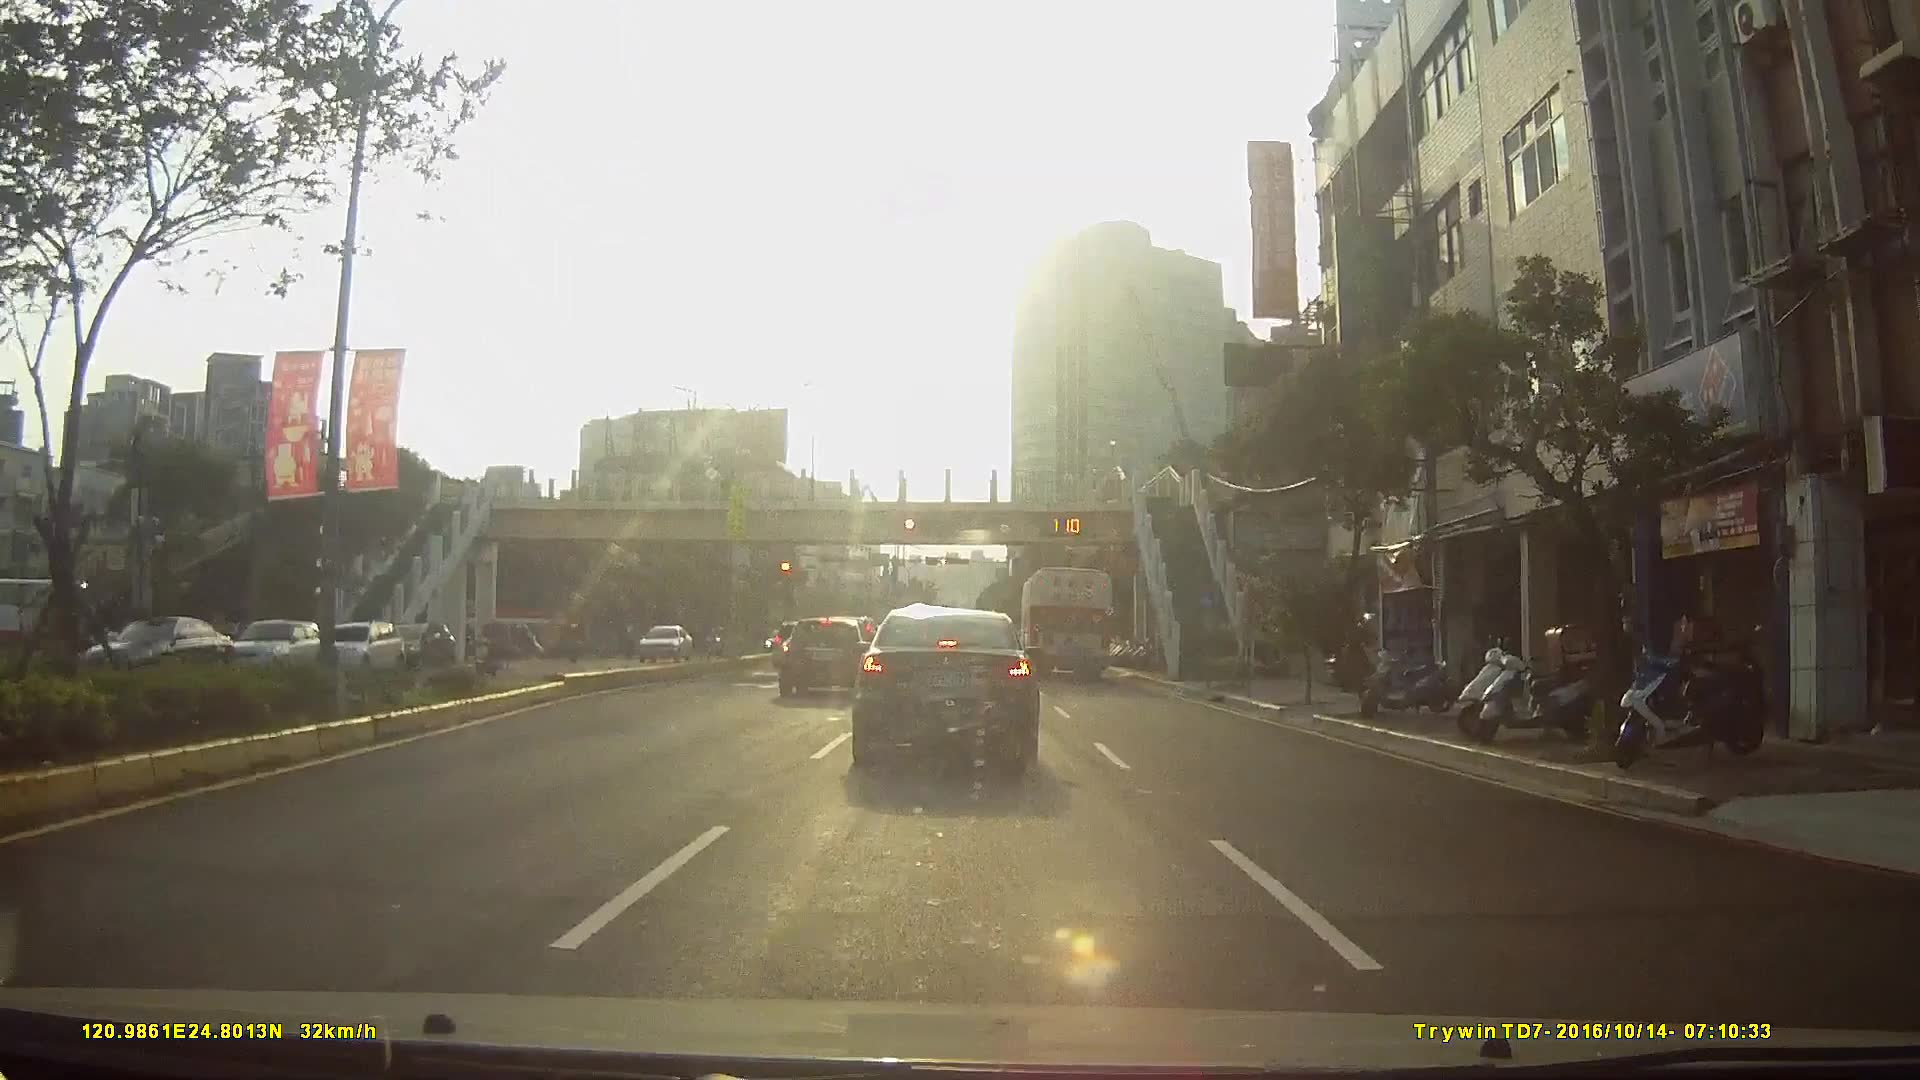rider: (473, 618, 506, 680)
vehicle: (849, 603, 1043, 766), (1018, 567, 1117, 684), (81, 615, 229, 686), (774, 614, 874, 700), (219, 617, 327, 679), (313, 621, 404, 675), (382, 621, 455, 672), (630, 622, 689, 664)
